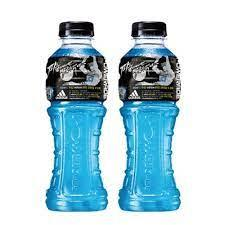powerade_mountainblast: (41, 18, 112, 213), (118, 15, 182, 212)
